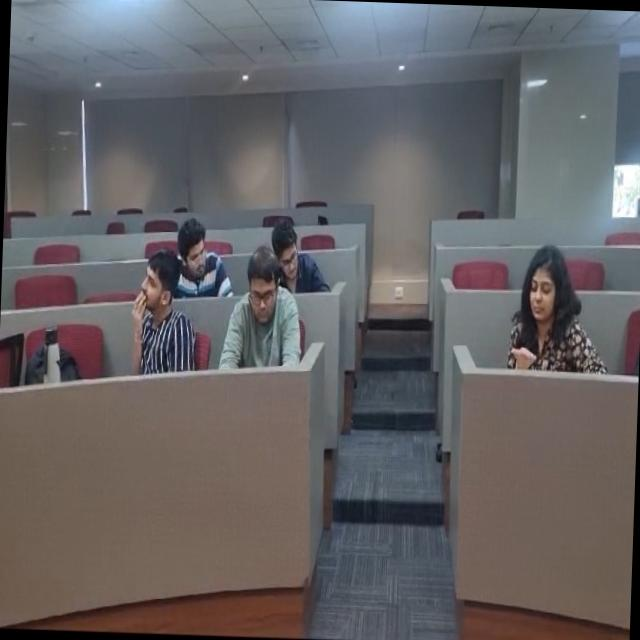cheating: (497, 249, 594, 379), (124, 254, 184, 378), (168, 201, 235, 300)
non-cheating: (223, 257, 300, 375), (273, 200, 329, 283)
